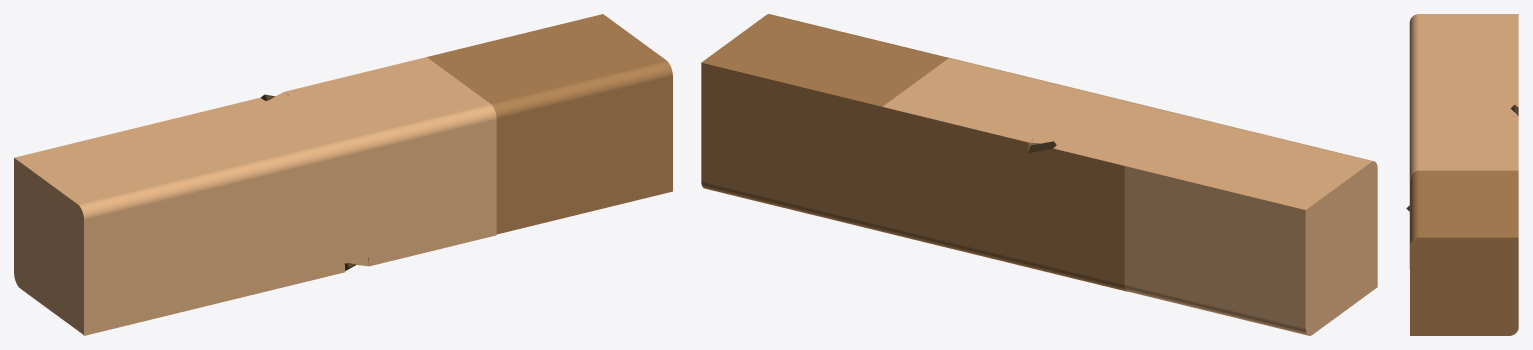
The model's file is HAKO TSUGI.glb.
3 views of the same model, side by side, from view 1: azimuth 30°, elevation 25°; view 2: azimuth 150°, elevation 25°; view 3: azimuth 270°, elevation 25° (orthographic). The views are drawn at different scales.
Visible parts, largest first — view 1: FamilyInstance Modelos genéricos Modelos genéricos 2 <383879, FamilyInstance Modelos genéricos Modelos genéricos 1 <355828; view 2: FamilyInstance Modelos genéricos Modelos genéricos 1 <355828, FamilyInstance Modelos genéricos Modelos genéricos 2 <383879; view 3: FamilyInstance Modelos genéricos Modelos genéricos 1 <355828, FamilyInstance Modelos genéricos Modelos genéricos 2 <383879.
Boxes of the visible parts, x1,y1,x2,y2 form: FamilyInstance Modelos genéricos Modelos genéricos 2 <383879: (14, 57, 496, 335); FamilyInstance Modelos genéricos Modelos genéricos 1 <355828: (427, 14, 672, 234); FamilyInstance Modelos genéricos Modelos genéricos 1 <355828: (701, 14, 1127, 291); FamilyInstance Modelos genéricos Modelos genéricos 2 <383879: (882, 58, 1377, 335); FamilyInstance Modelos genéricos Modelos genéricos 1 <355828: (1410, 170, 1518, 335); FamilyInstance Modelos genéricos Modelos genéricos 2 <383879: (1409, 14, 1518, 268).
Bounding box in the file's own units: 12.47 × 2.66 × 2.65.
